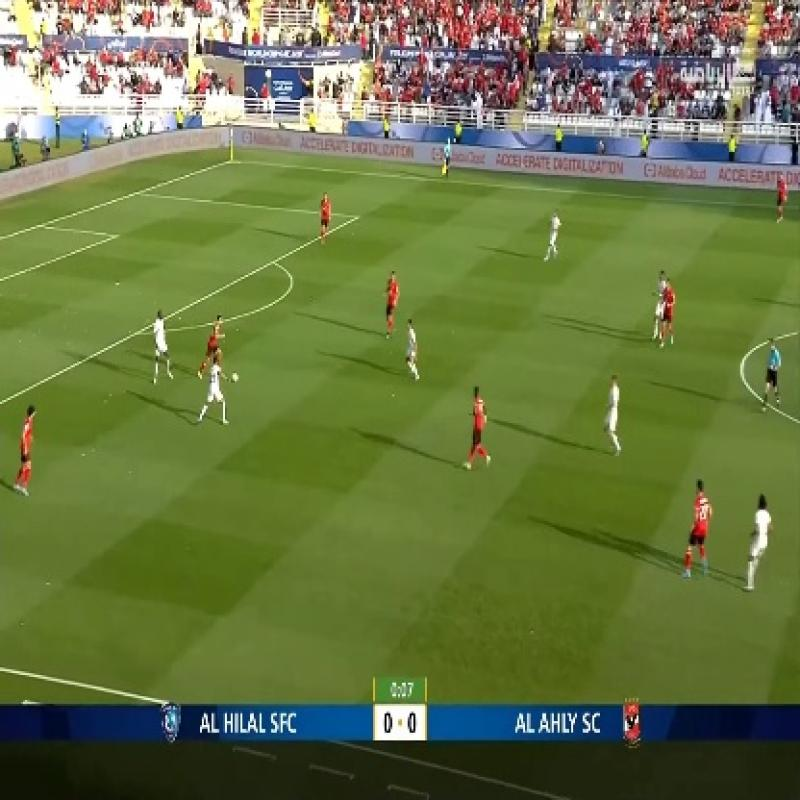1: (227, 154, 236, 162)
10: (267, 254, 279, 268)
11: (125, 323, 152, 344)
2: (134, 186, 142, 196)
3: (34, 220, 44, 228)
7: (108, 231, 118, 240)
9: (348, 209, 358, 226)
c: (730, 348, 757, 378)
